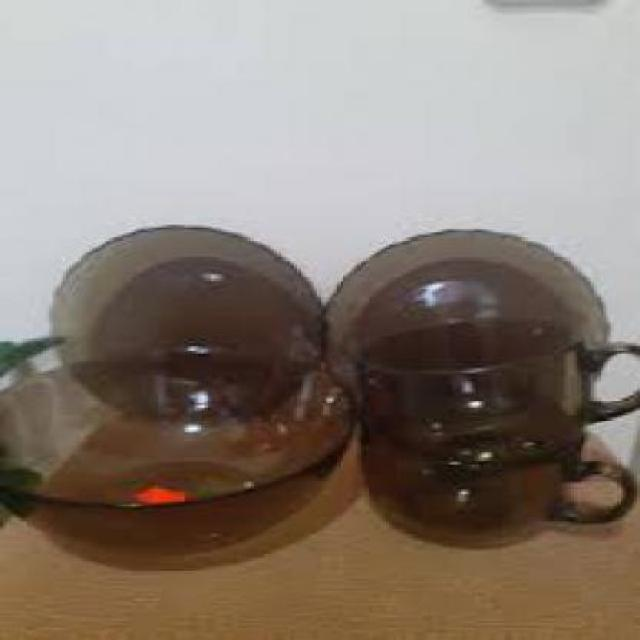kaca: (0, 363, 351, 572), (323, 228, 608, 429), (46, 223, 320, 425), (337, 312, 637, 443), (357, 418, 634, 551)
